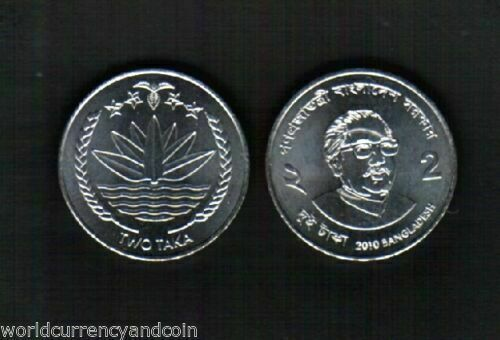5 taka coin: (59, 69, 250, 261), (268, 69, 458, 262)
